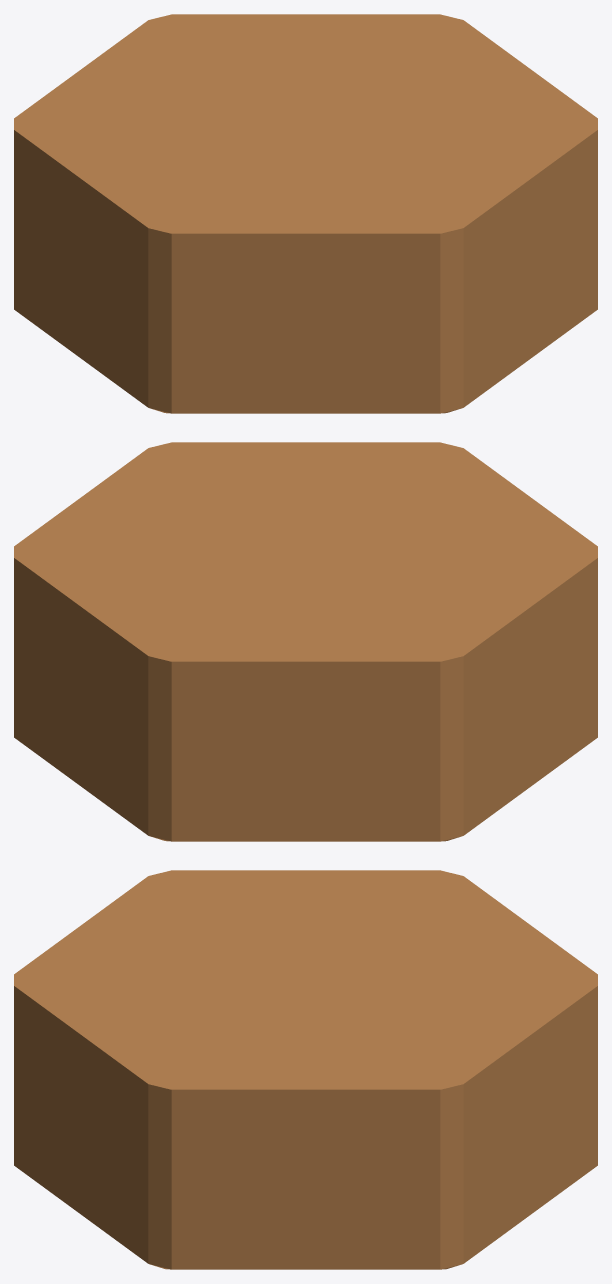
File: Base_Bottom.fbx
3 renders of one model, top to bottom at view 1: azimuth 30°, elevation 25°; view 2: azimuth 150°, elevation 25°; view 3: azimuth 270°, elevation 25°, orthographic.
Parts seen in each view (by area): view 1: 柱体.003; view 2: 柱体.003; view 3: 柱体.003.
Boxes of the visible parts, x1,y1,x2,y2 form: 柱体.003: (14, 14, 597, 413); 柱体.003: (14, 442, 597, 841); 柱体.003: (14, 870, 597, 1269).
Bounding box in the file's own units: 1000 × 395 × 1125.
